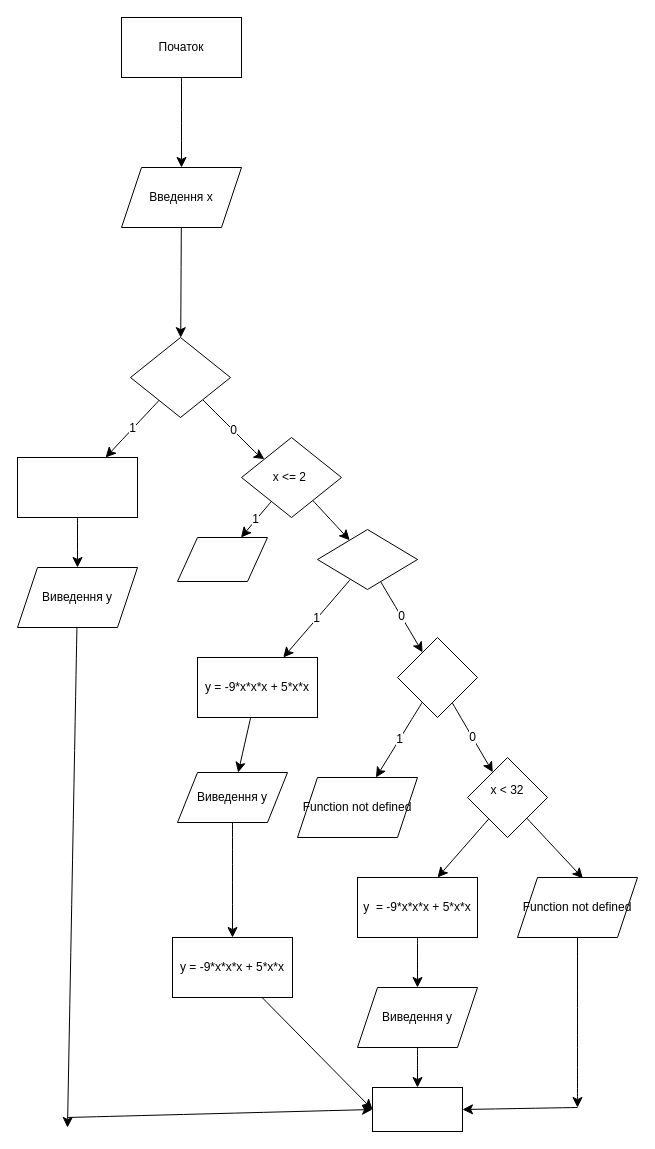
The diagram is 655 pixels wide and 1149 high, and some of its shapes have lost their labels. Here are the shapes that lost their labels. From the top down, the centre of each, then its label:
At (x=180, y=377): "x <= 0".
At (x=77, y=487): "y = -(x*x) - 12".
At (x=222, y=559): "Function no defined".
At (x=367, y=559): "x <= 12".
At (x=437, y=677): "x <= 22".
At (x=417, y=1109): "Кінець".
